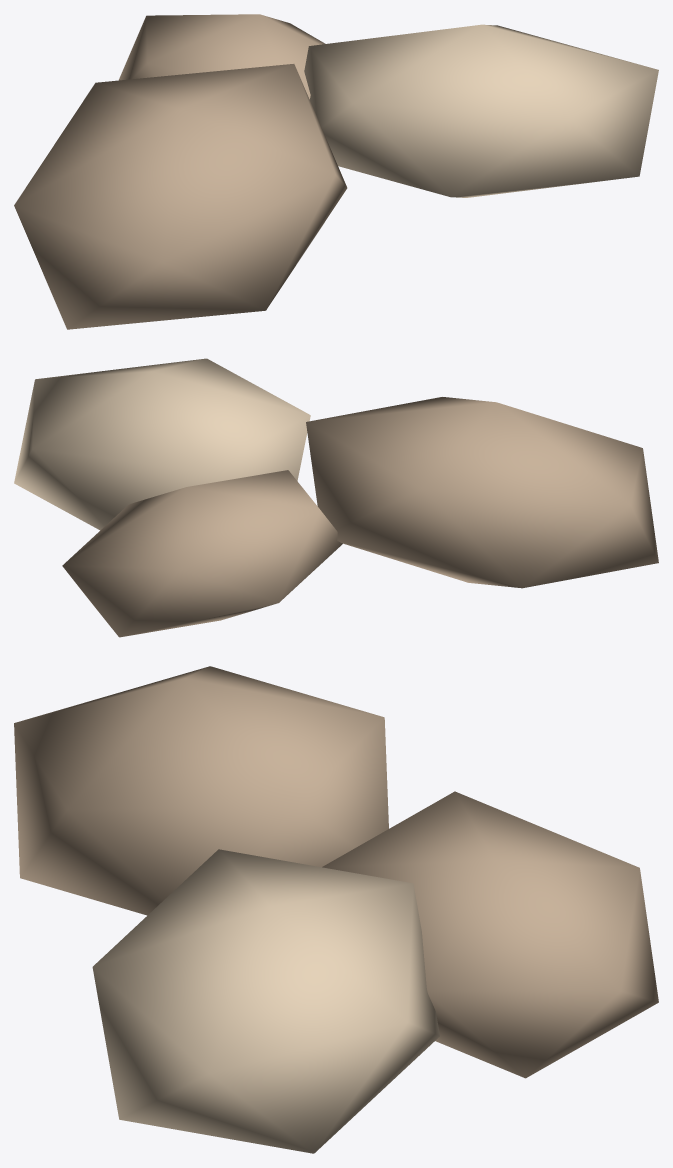
The model's file is pebble-set.glb.
3 views of the same model, one above another, from view 1: azimuth 30°, elevation 25°; view 2: azimuth 150°, elevation 25°; view 3: azimuth 270°, elevation 25° (orthographic). The views are drawn at different scales.
Visible parts, largest first — view 1: pebble-set; view 2: pebble-set; view 3: pebble-set.
Part boxes in pixels (left/top/right/bottom): pebble-set: left=14, top=14, right=658, bottom=329; pebble-set: left=14, top=358, right=658, bottom=637; pebble-set: left=14, top=666, right=658, bottom=1153.
Bounding box in the file's own units: 0.2821 × 0.0792 × 0.2016.
